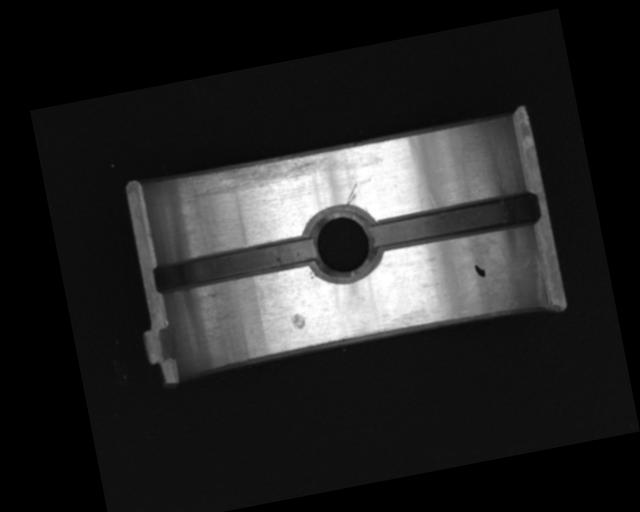blot: (473, 262, 487, 279)
bruise: (288, 311, 308, 331)
gap: (365, 188, 543, 256), (150, 234, 317, 296)
hole: (300, 200, 381, 287)
nick: (342, 182, 360, 207)
scratch: (179, 146, 331, 204)
